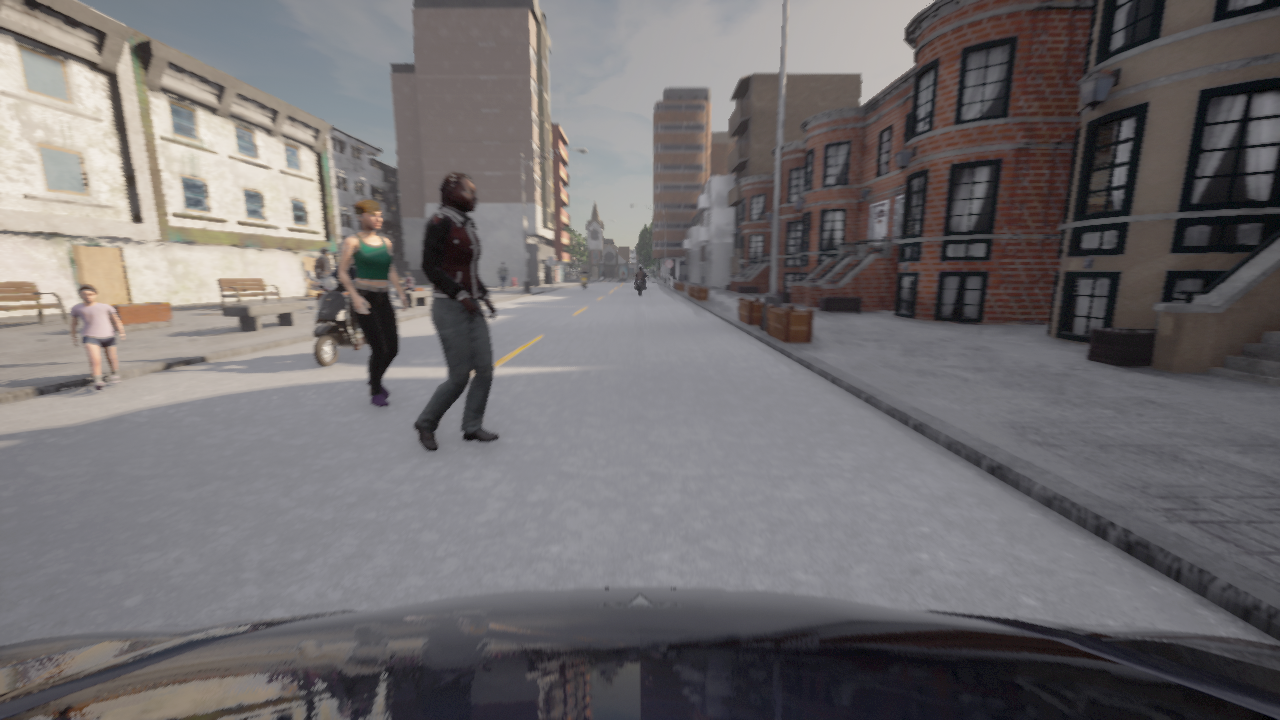cyclist: (0, 588, 1279, 719), (306, 271, 366, 367), (636, 275, 646, 294), (390, 276, 404, 287), (578, 273, 587, 290), (334, 263, 337, 267), (388, 280, 390, 286)
pedestrian: (413, 172, 499, 452), (338, 199, 407, 407), (70, 285, 124, 391), (314, 248, 332, 293), (497, 262, 509, 291), (404, 272, 414, 291)
